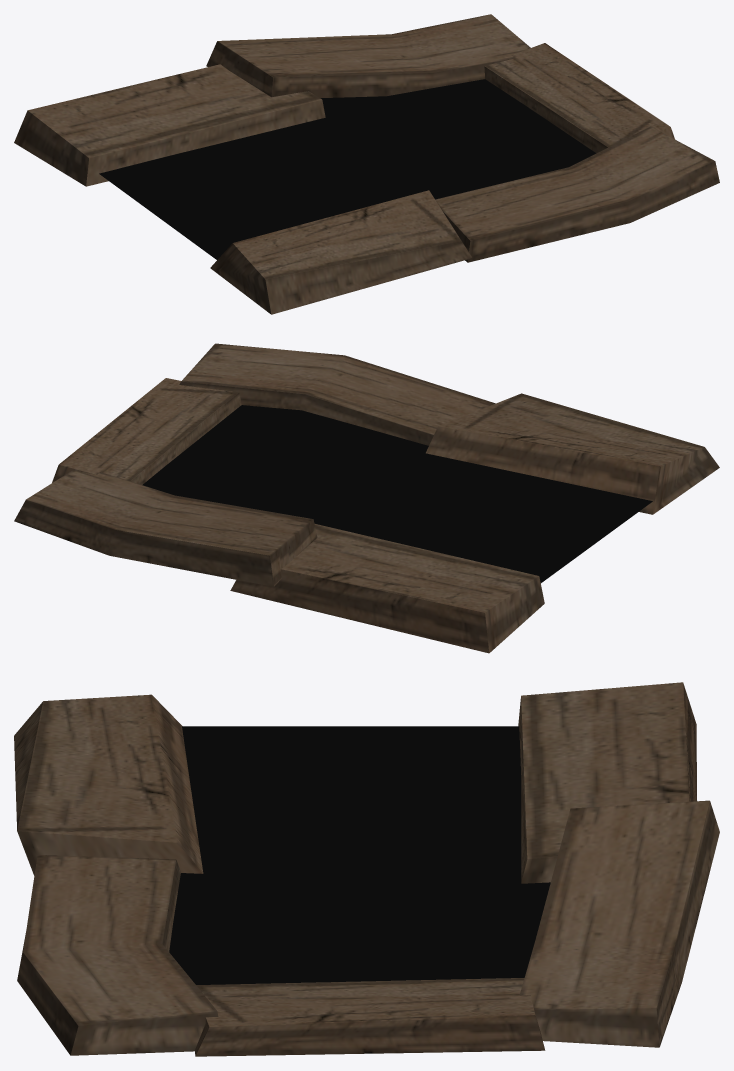
Rendered from pitFall_slimEnd.fbx.
The picture shows the model from 3 angles, top to bottom: view 1: azimuth 30°, elevation 25°; view 2: azimuth 150°, elevation 25°; view 3: azimuth 270°, elevation 25°; orthographic projection. The views are drawn at different scales.
Visible parts, largest first — view 1: pitFall_slimEnd; view 2: pitFall_slimEnd; view 3: pitFall_slimEnd.
Part boxes in pixels (left/top/right/bottom): pitFall_slimEnd: left=14, top=14, right=719, bottom=314; pitFall_slimEnd: left=14, top=343, right=719, bottom=653; pitFall_slimEnd: left=14, top=682, right=719, bottom=1056.
Bounding box in the file's own units: 92.2 × 9.76 × 81.42.
